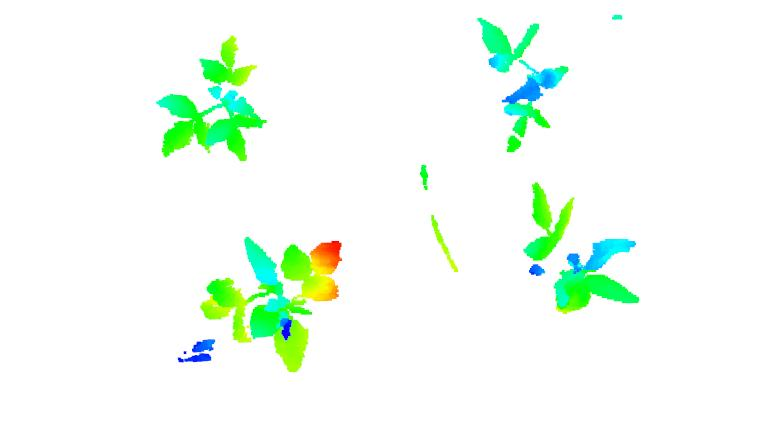mungbean: (200, 231, 348, 377), (522, 177, 648, 315), (472, 10, 574, 154), (158, 34, 267, 162)
